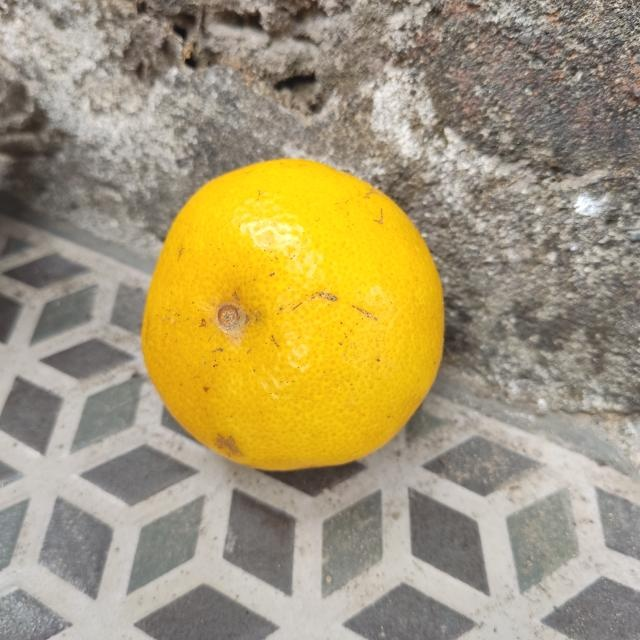agrume: (134, 157, 446, 471)
